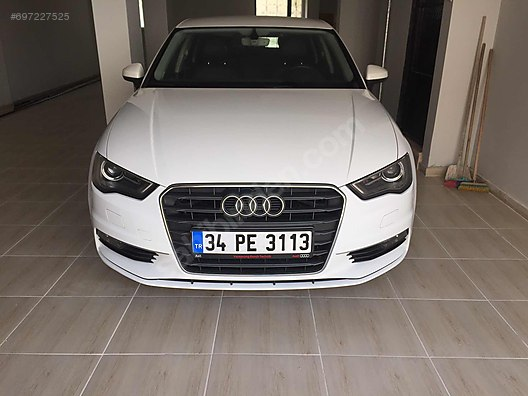audi: (214, 194, 286, 218)
